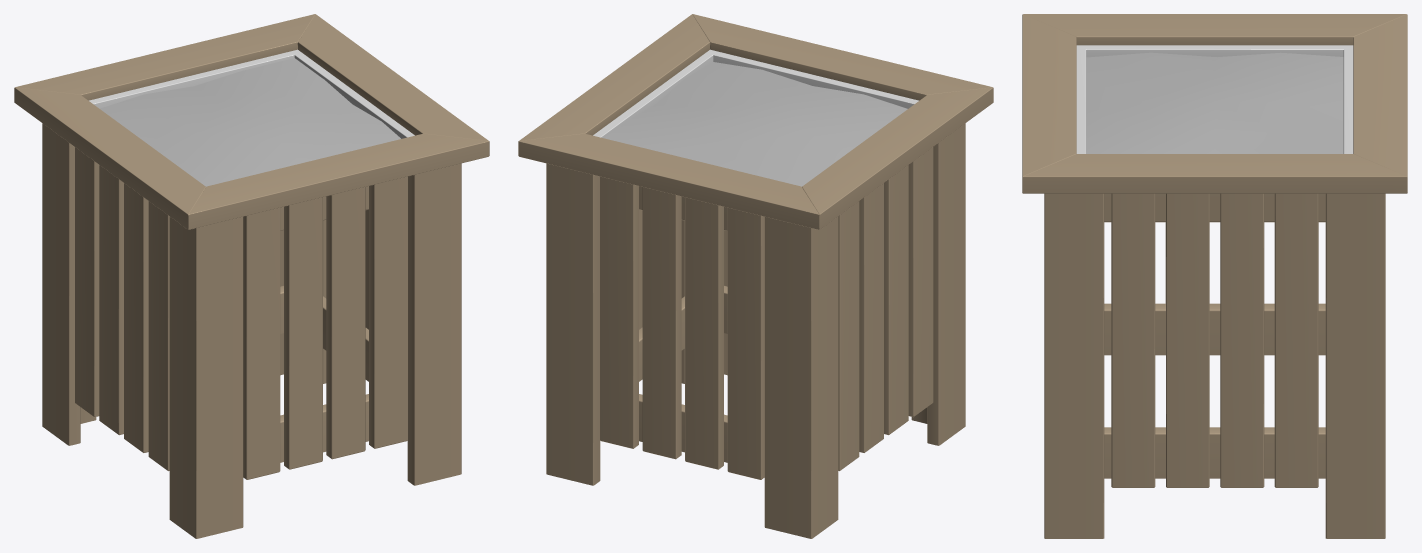
Rendered from cP_Ashtray.fbx.
3 views of the same model, side by side, from view 1: azimuth 30°, elevation 25°; view 2: azimuth 150°, elevation 25°; view 3: azimuth 270°, elevation 25° (orthographic). The views are drawn at different scales.
Visible parts, largest first — view 1: cP_Ashtray_Wood, cP_Ashtray_Sand, cP_Ashtray_Metal; view 2: cP_Ashtray_Wood, cP_Ashtray_Sand, cP_Ashtray_Metal; view 3: cP_Ashtray_Wood, cP_Ashtray_Sand, cP_Ashtray_Metal.
Part boxes in pixels (x1,y1,x2,y2): cP_Ashtray_Wood: (14, 14, 489, 538); cP_Ashtray_Sand: (100, 58, 400, 186); cP_Ashtray_Metal: (89, 49, 414, 138); cP_Ashtray_Wood: (518, 14, 993, 538); cP_Ashtray_Sand: (604, 62, 907, 186); cP_Ashtray_Metal: (593, 49, 918, 137); cP_Ashtray_Wood: (1022, 14, 1407, 538); cP_Ashtray_Sand: (1086, 52, 1343, 153); cP_Ashtray_Metal: (1076, 45, 1353, 153).
Bounding box in the file's own units: 65.13 × 69.38 × 65.13.
